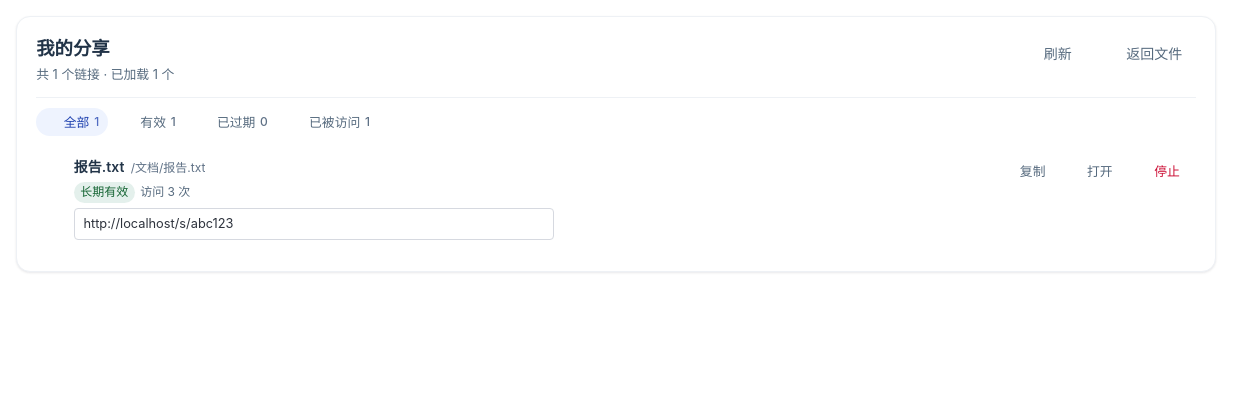
Scenario: SharedLinks.vue › stops sharing after confirmation and removes the row
Expected: the text "报告.txt" is shown, [74,156,124,177]
Click the button "停止" at (1156, 170), box [1125,156,1188,185]
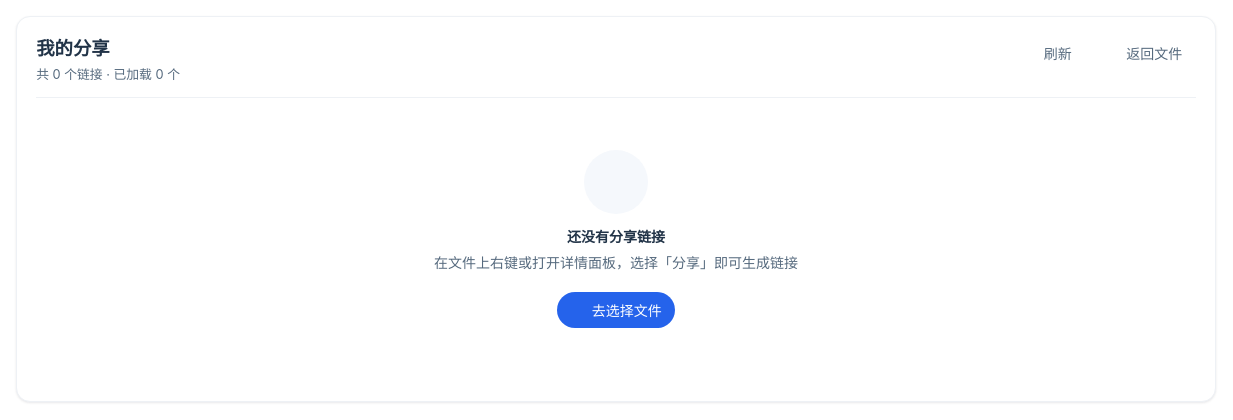
Result: the text "还没有分享链接" is shown at [567,226,665,247]
